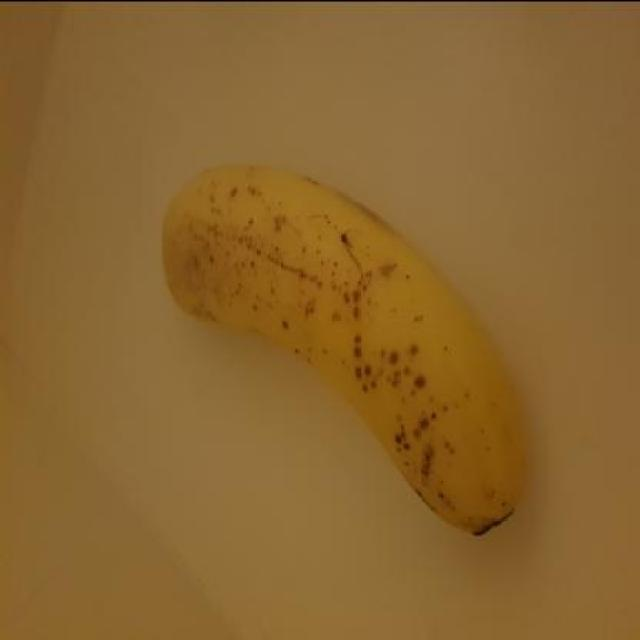banana: (147, 164, 544, 548)
